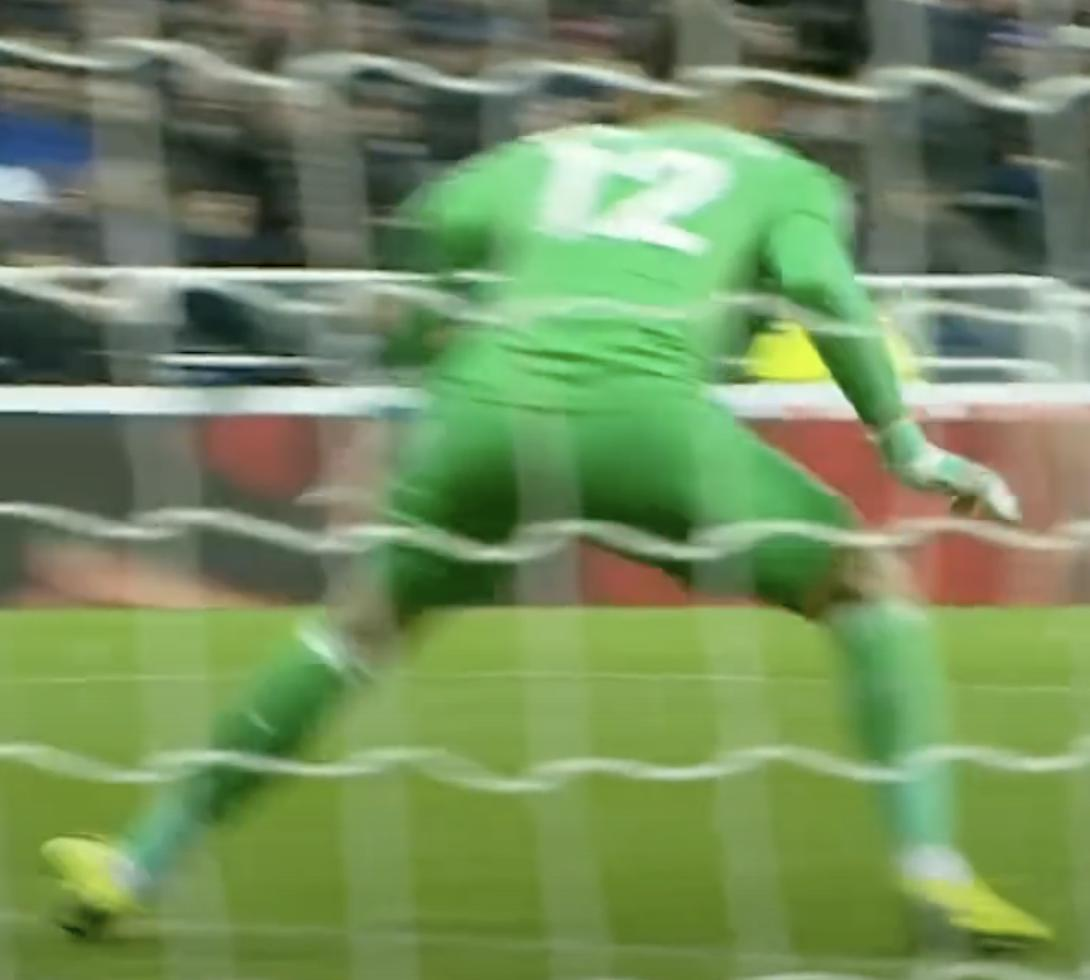goalkeeper: (20, 24, 1090, 980)
